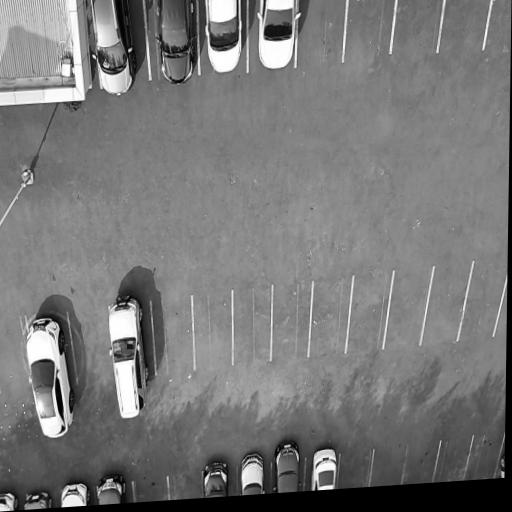Car: (23, 313, 78, 445), (106, 292, 152, 424), (88, 0, 140, 103), (152, 0, 196, 88), (203, 0, 243, 81), (254, 0, 298, 72), (272, 439, 302, 493), (308, 446, 339, 491), (239, 452, 266, 496), (95, 471, 129, 505), (202, 461, 231, 498), (59, 480, 93, 507), (23, 490, 54, 510), (0, 491, 19, 511)
Space Available: (420, 263, 473, 346), (383, 267, 433, 350), (457, 261, 508, 342), (346, 272, 394, 354), (295, 0, 347, 70), (67, 307, 112, 386), (309, 278, 353, 357), (151, 297, 195, 375), (192, 291, 233, 371), (232, 286, 273, 365), (344, 0, 396, 62), (271, 282, 312, 359), (437, 0, 492, 54), (391, 0, 444, 53), (0, 317, 31, 396), (433, 437, 474, 483), (464, 435, 505, 481), (401, 442, 441, 485), (370, 447, 407, 487), (337, 451, 373, 489), (484, 0, 511, 50), (167, 474, 203, 500), (133, 478, 169, 502)
